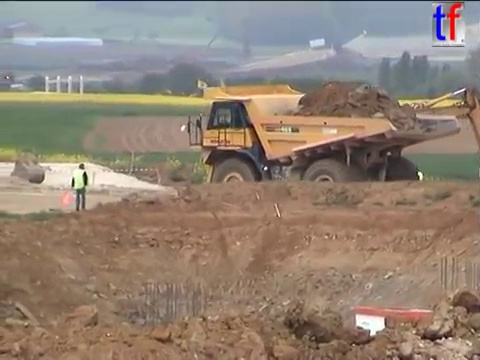excavator: (261, 84, 480, 201)
truck: (178, 77, 463, 211)
worker: (66, 161, 91, 215)
